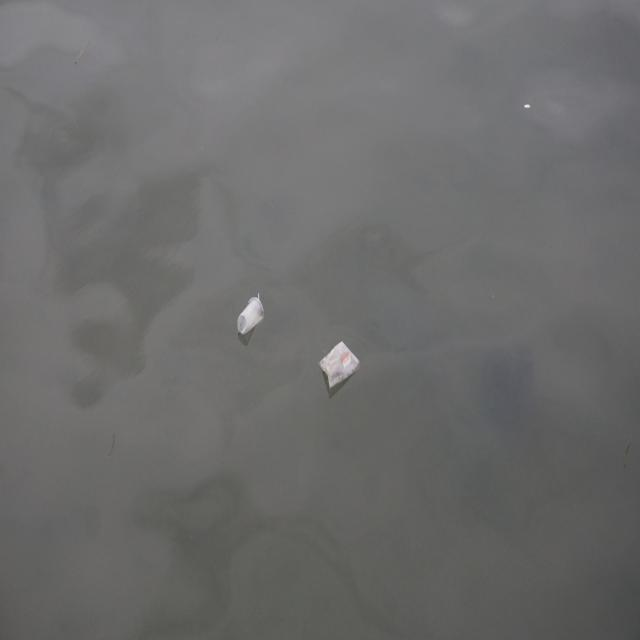Bungkus Makanan: (318, 339, 362, 396)
Bungkus Minuman: (237, 290, 267, 340)
